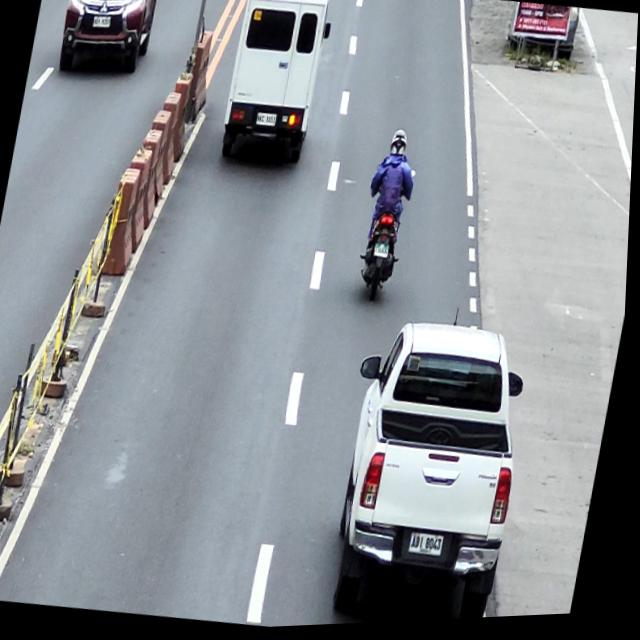Car: (322, 314, 545, 628), (218, 0, 339, 172), (52, 0, 163, 83)
License-Plate: (413, 534, 451, 562), (257, 114, 279, 130), (91, 17, 112, 31), (376, 245, 392, 262)
Motorcycle: (353, 165, 420, 305)
